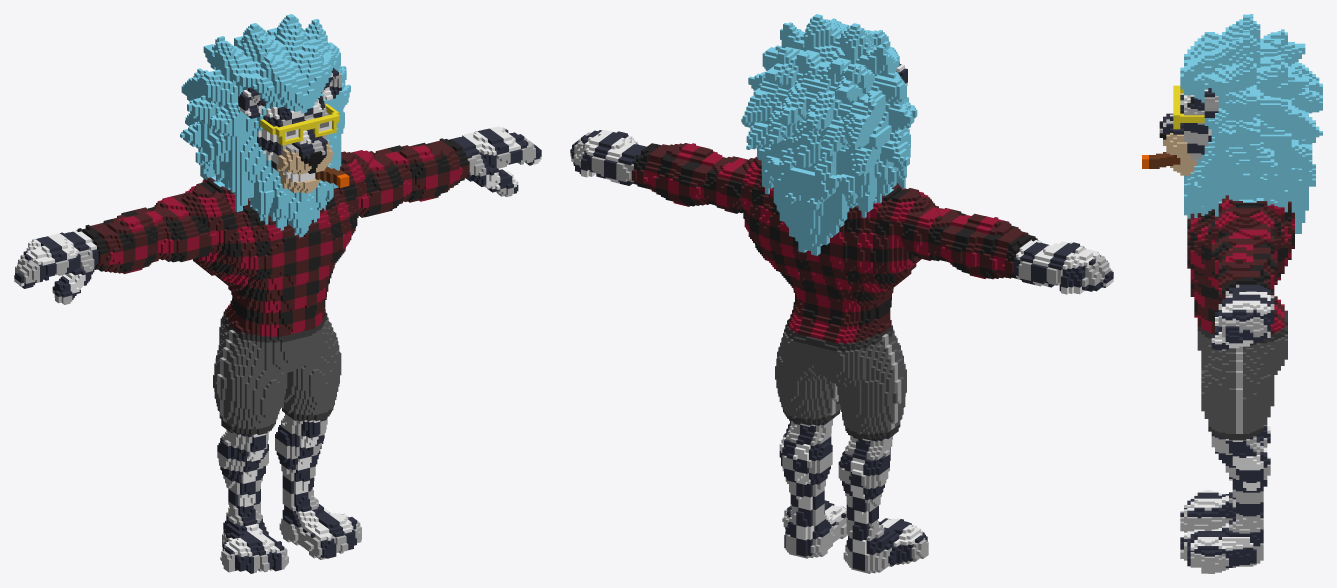
Rendered from 163-Dh6MzJOe.fbx.
3 views of the same model, side by side, from view 1: azimuth 30°, elevation 25°; view 2: azimuth 150°, elevation 25°; view 3: azimuth 270°, elevation 25° (orthographic). The views are drawn at different scales.
Parts seen in each view (by area): view 1: cigar; view 2: cigar; view 3: cigar.
Part boxes in pixels (x1=…): cigar: x1=14, y1=14, x2=541, y2=573; cigar: x1=570, y1=14, x2=1113, y2=573; cigar: x1=1142, y1=14, x2=1322, y2=573.
Bounding box in the file's own units: 17.2 × 16.5 × 5.2.
Materials: 5 (5 with a texture image).
